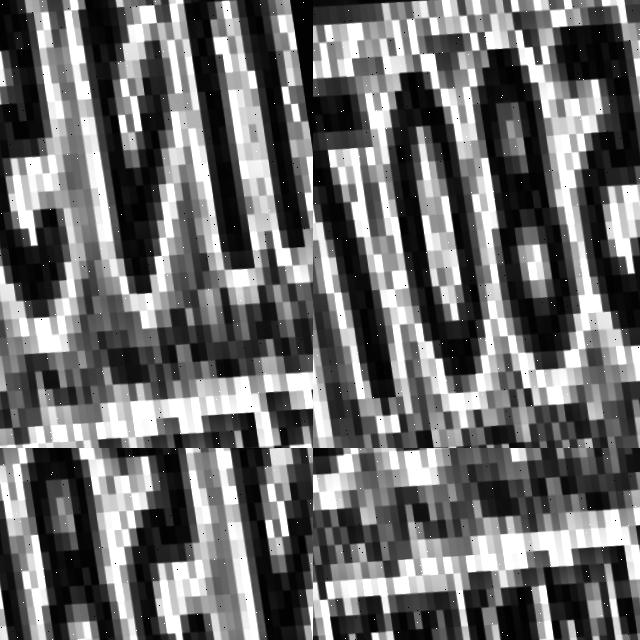license-plate: (0, 0, 313, 448), (313, 448, 640, 640)
